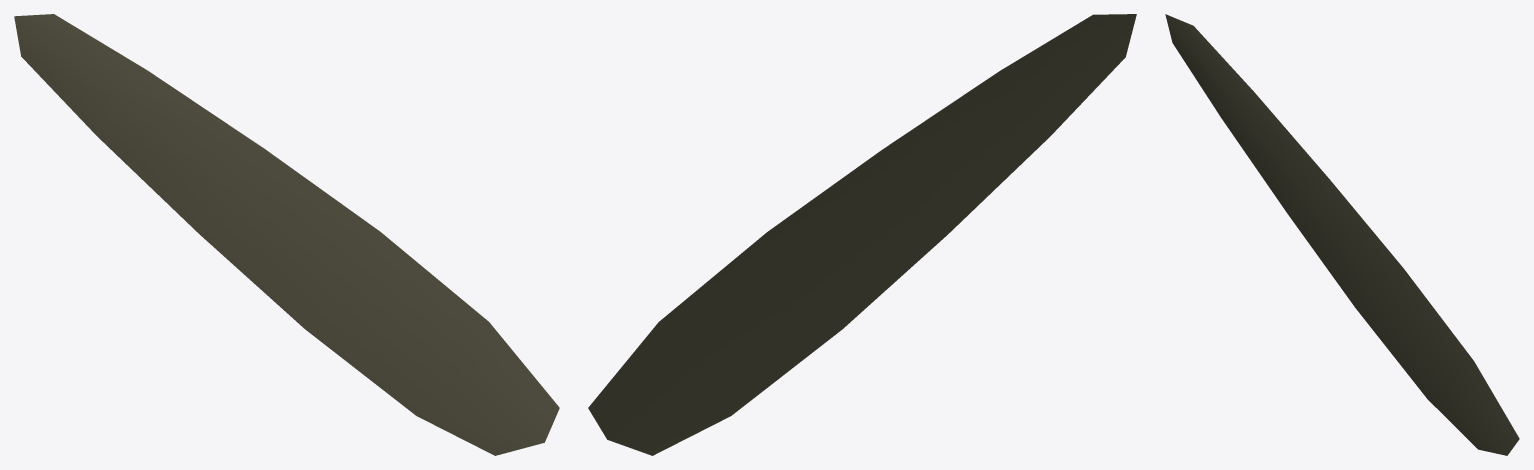
The model's file is finch_feather_flight_primary_013.obj.
3 renders of one model, left to right at view 1: azimuth 30°, elevation 25°; view 2: azimuth 150°, elevation 25°; view 3: azimuth 330°, elevation 25°, orthographic. The views are drawn at different scales.
Visible parts, largest first — view 1: feather_flight_primary_013; view 2: feather_flight_primary_013; view 3: feather_flight_primary_013.
Boxes of the visible parts, x1,y1,x2,y2 form: feather_flight_primary_013: (14,14,559,455); feather_flight_primary_013: (588,14,1136,455); feather_flight_primary_013: (1165,14,1519,455).
Size of the model in its own units: 0.0372 by 0.0363 by 0.000244.
